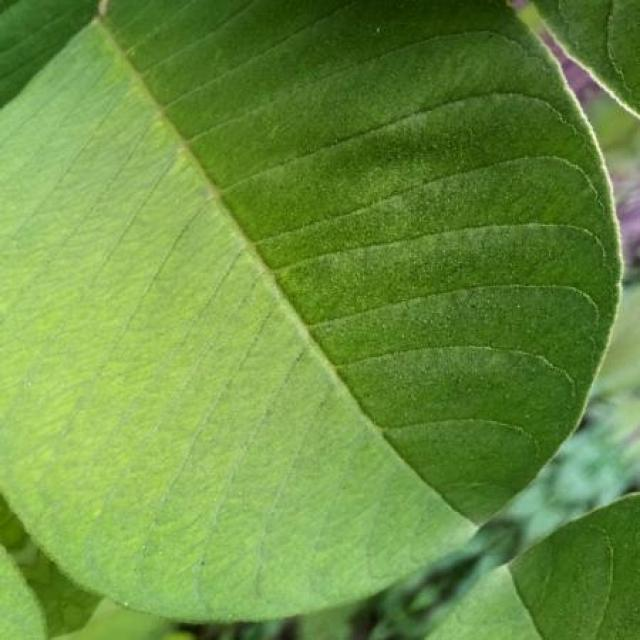Disease Free: (0, 0, 620, 619), (425, 494, 640, 640)
